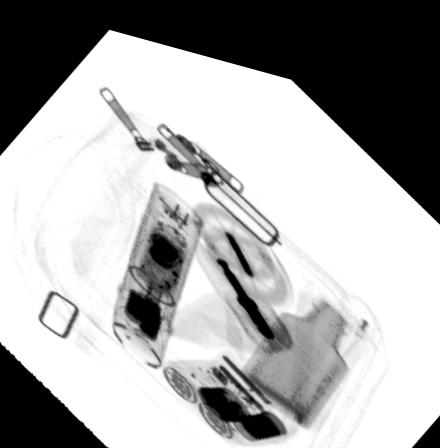Baton: (108, 170, 204, 364)
